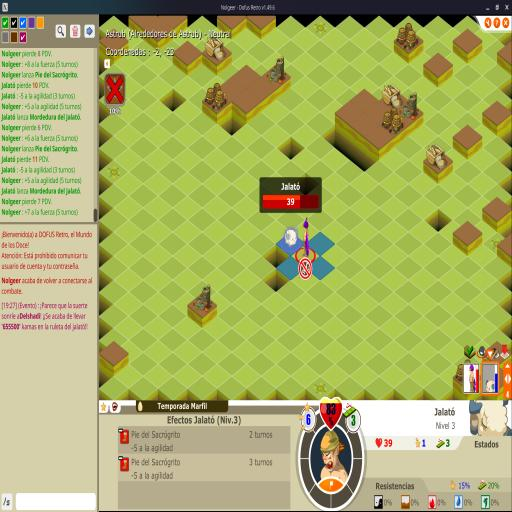Enemigos: (284, 227, 297, 248)
Personaje: (302, 216, 310, 257)
